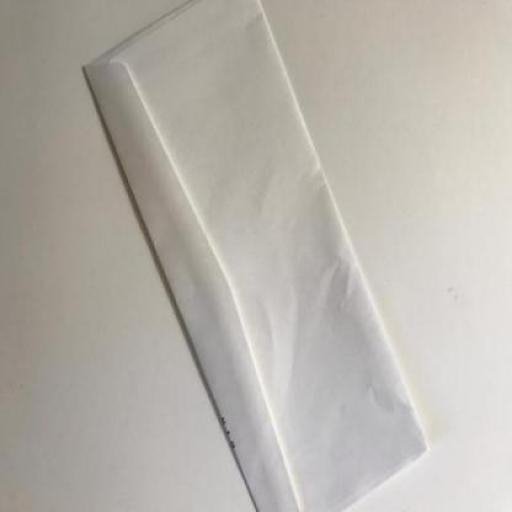paper: (85, 1, 432, 511)
